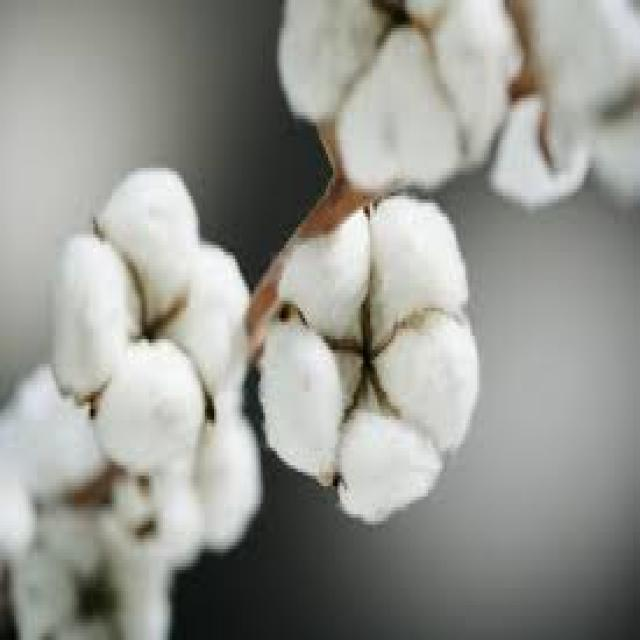Matured Cotton Boll: (256, 197, 482, 527), (41, 152, 251, 470), (276, 1, 524, 191), (7, 464, 169, 640), (110, 385, 260, 562)
